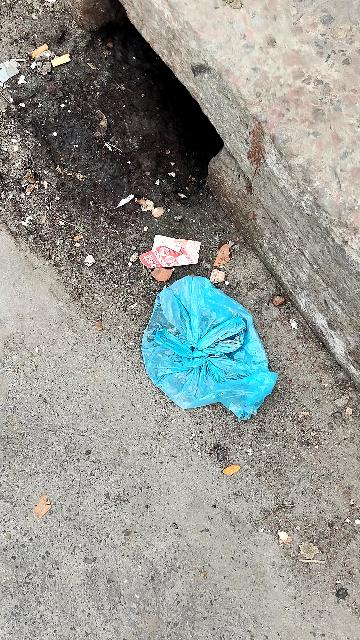polythene: (117, 263, 297, 435)
